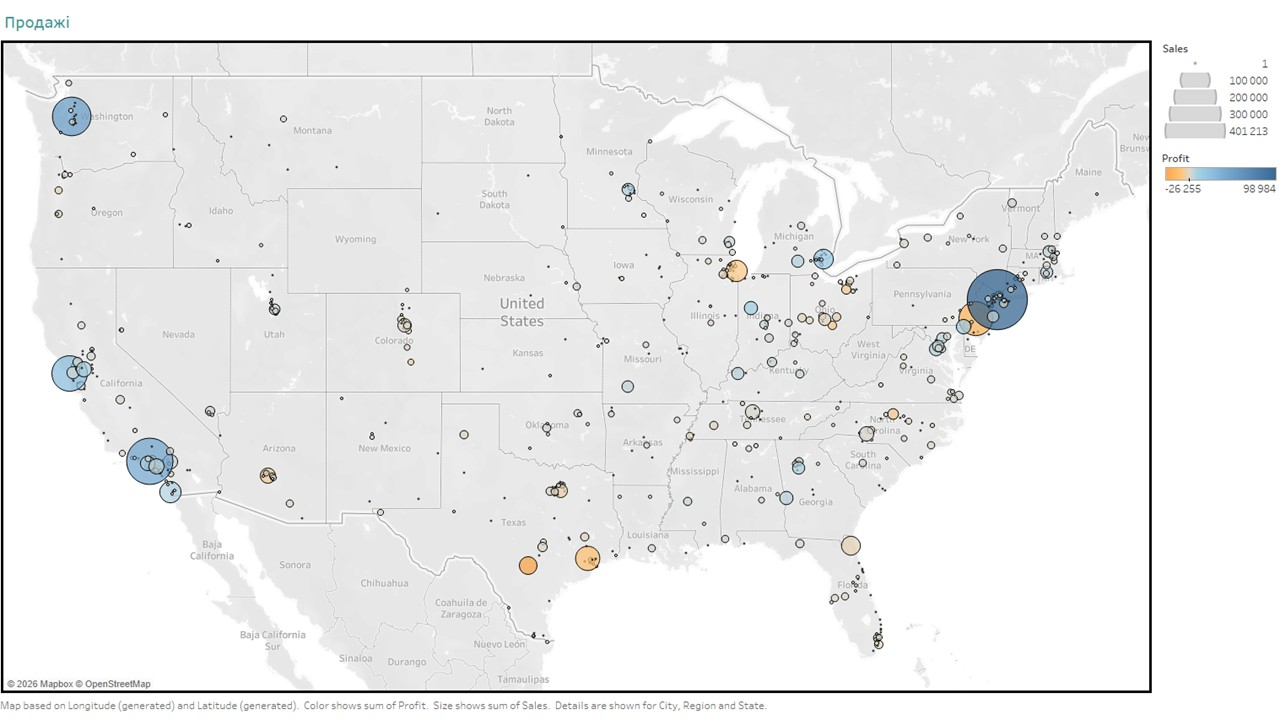

The page's visual inventory and layout, read from the dashboard file:
{"tool":"tableau","page":{"name":"Dashboard 1","canvas":[1000,800],"ordinal":0},"visuals":[{"type":"worksheet","title":"DataSet (5)","mark":"Automatic","box":[8,8,627,784]},{"type":"worksheet","title":"DataSet (3)","mark":"Bar","rows":["Sales","Profit"],"cols":["Order Date"],"box":[635,8,357,592]},{"type":"legend","title":"DataSet (3)","param":"[federated.15leef616ht11917ihiai0r8nk6m].[:Measure Names]","box":[635,600,357,66]},{"type":"legend","title":"DataSet (5)","param":"[federated.15leef616ht11917ihiai0r8nk6m].[sum:Sales:qk]","box":[635,666,357,126]}]}

Visuals, with their boxes on the page's 1000x800 design canvas (x1, y1, x2, y2). These are canvas units, not pixel positions in the 1280x720 screenshot, which may show the page scaled, cropped or inside an application window:
"DataSet (5)" worksheet: l=8, t=8, r=635, b=792
"DataSet (3)" worksheet (Bar marks): l=635, t=8, r=992, b=600
"DataSet (3)" legend: l=635, t=600, r=992, b=666
"DataSet (5)" legend: l=635, t=666, r=992, b=792
